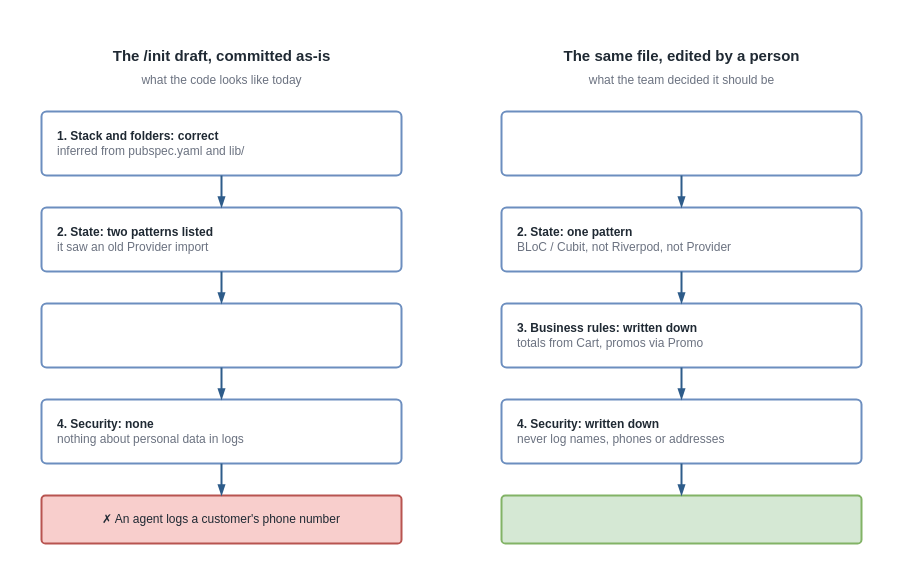
Image size: 902x584. Some labels were removed from this diagram. Each missing label, with the centre of its shape:
"1. Stack and folders: kept the draft got these right" goes at point (681, 143).
"3. Business rules: none they live in people's heads" goes at point (221, 335).
"✓ Hard rules an agent can check itself against" goes at point (681, 519).
